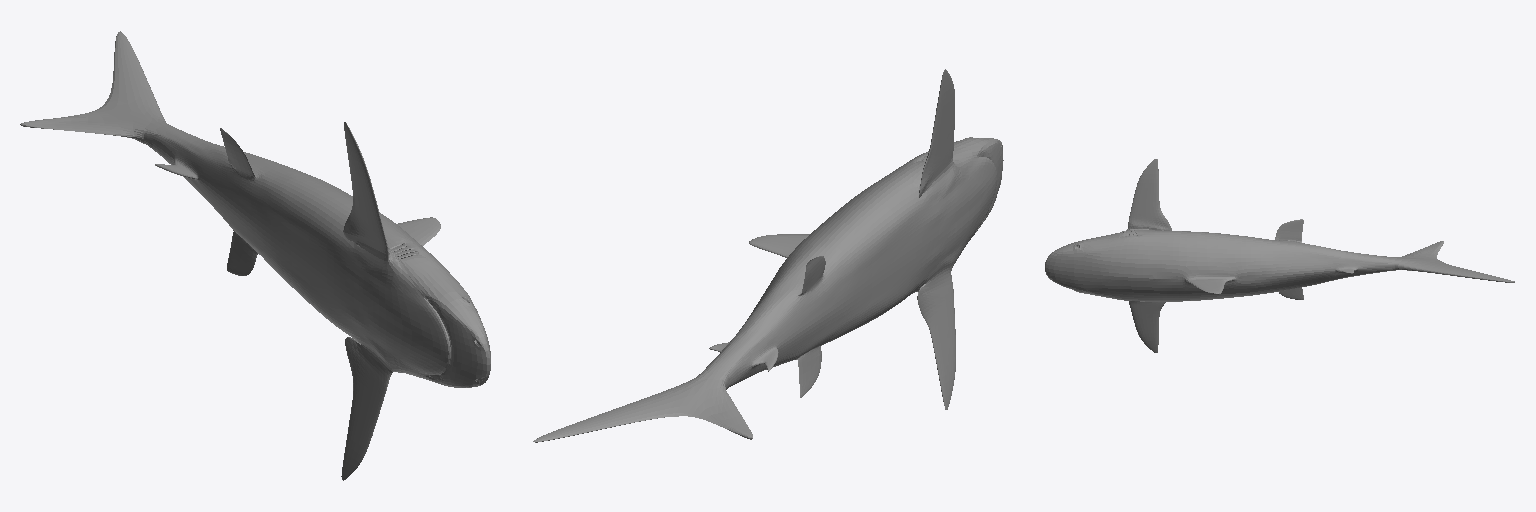
robot.urdf — cube.urdf:
<?xml version="0.0" ?> 
<robot name="cube.urdf"> 
<link name="legobrick"> 
<contact> 
<lateral_friction value="1.0"/>
<rolling_friction value="0.0"/>
<contact_cfm value="0.0"/>
<contact_erp value="1.0"/>
</contact> 
<inertial> 
<origin rpy="0 0 0" xyz="0.0 0.0 0.0"/> 
<mass value="0.1"/> 
<inertia ixx="1" ixy="0" ixz="0" iyy="1" iyz="0" izz="1"/> 
</inertial> 
<visual> 
<origin rpy="1.570796 0 0" xyz="0.0014747742333875338 0.007718803090547665 -8.457184167721175e-05"/> 
<geometry> 
<mesh filename="407eab234d7c9c4791d13947d0d17396_1.obj" scale="1 1 1"/> 
</geometry> 
<material name="yellow"> 
<color rgba="0.6 0.6 0.6 1"/> 
</material> 
</visual> 
<collision> 
<origin rpy="1.570796 0 0" xyz="0.0014747742333875338 0.007718803090547665 -8.457184167721175e-05"/> 
<geometry> 
<mesh filename="407eab234d7c9c4791d13947d0d17396_1_col.obj" scale="1 1 1"/> 
</geometry> 
</collision> 
</link> 
</robot>

--- Render facts (derived) ---
3 views of the same robot in one strip: view 1: azimuth 30°, elevation 25°; view 2: azimuth 150°, elevation 25°; view 3: azimuth 270°, elevation 25° (orthographic).
Robot: cube.urdf — 1 links, 0 joints (none); root link legobrick; default pose: every joint at zero.
Links seen in each view (by area): view 1: legobrick; view 2: legobrick; view 3: legobrick.
Link boxes in pixels (x1=…): legobrick: x1=20, y1=31, x2=490, y2=480; legobrick: x1=533, y1=69, x2=1003, y2=442; legobrick: x1=1045, y1=159, x2=1514, y2=352.
Bounding box of the posed robot: 0.0275 × 0.0982 × 0.045 m (x, y, z).
1 mesh visuals loaded from 1 distinct referenced files (1 OBJ).
